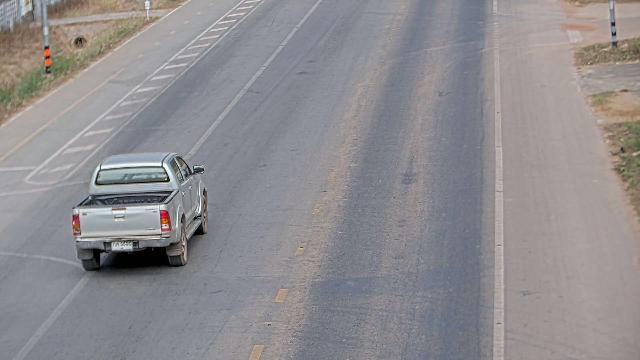pickup-truck: (71, 151, 209, 271)
